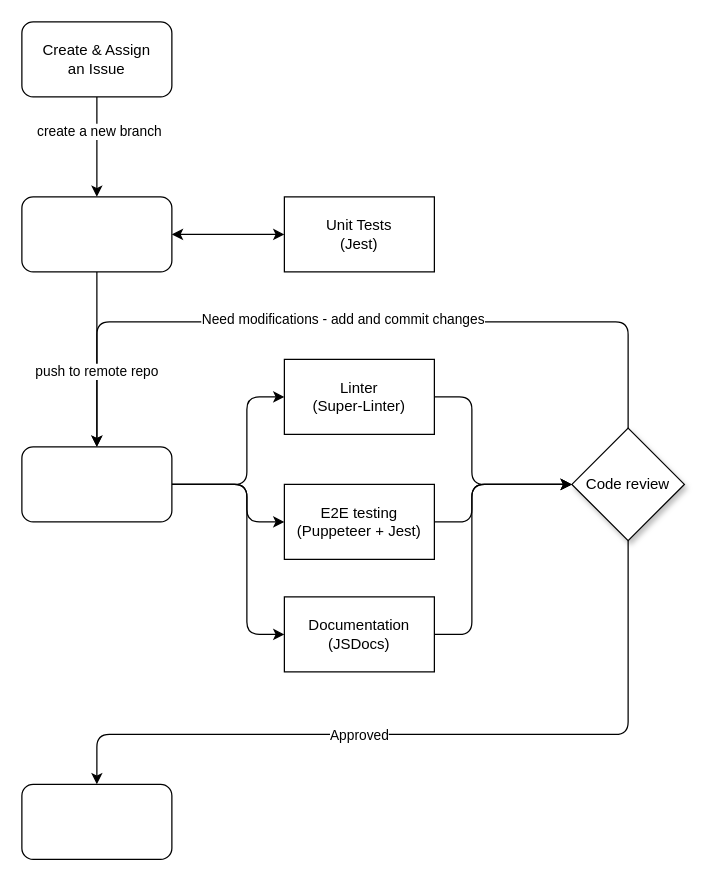
Some shapes in this 714 by 881 pixel diagram are drawn without their labels. The shapes that lost their labels are listed below. From the top down, each one's centre as x and y in pixels, then its label:
(x=96, y=234): Code Development
(x=96, y=484): Pull Request
(x=96, y=821): Merge to main
